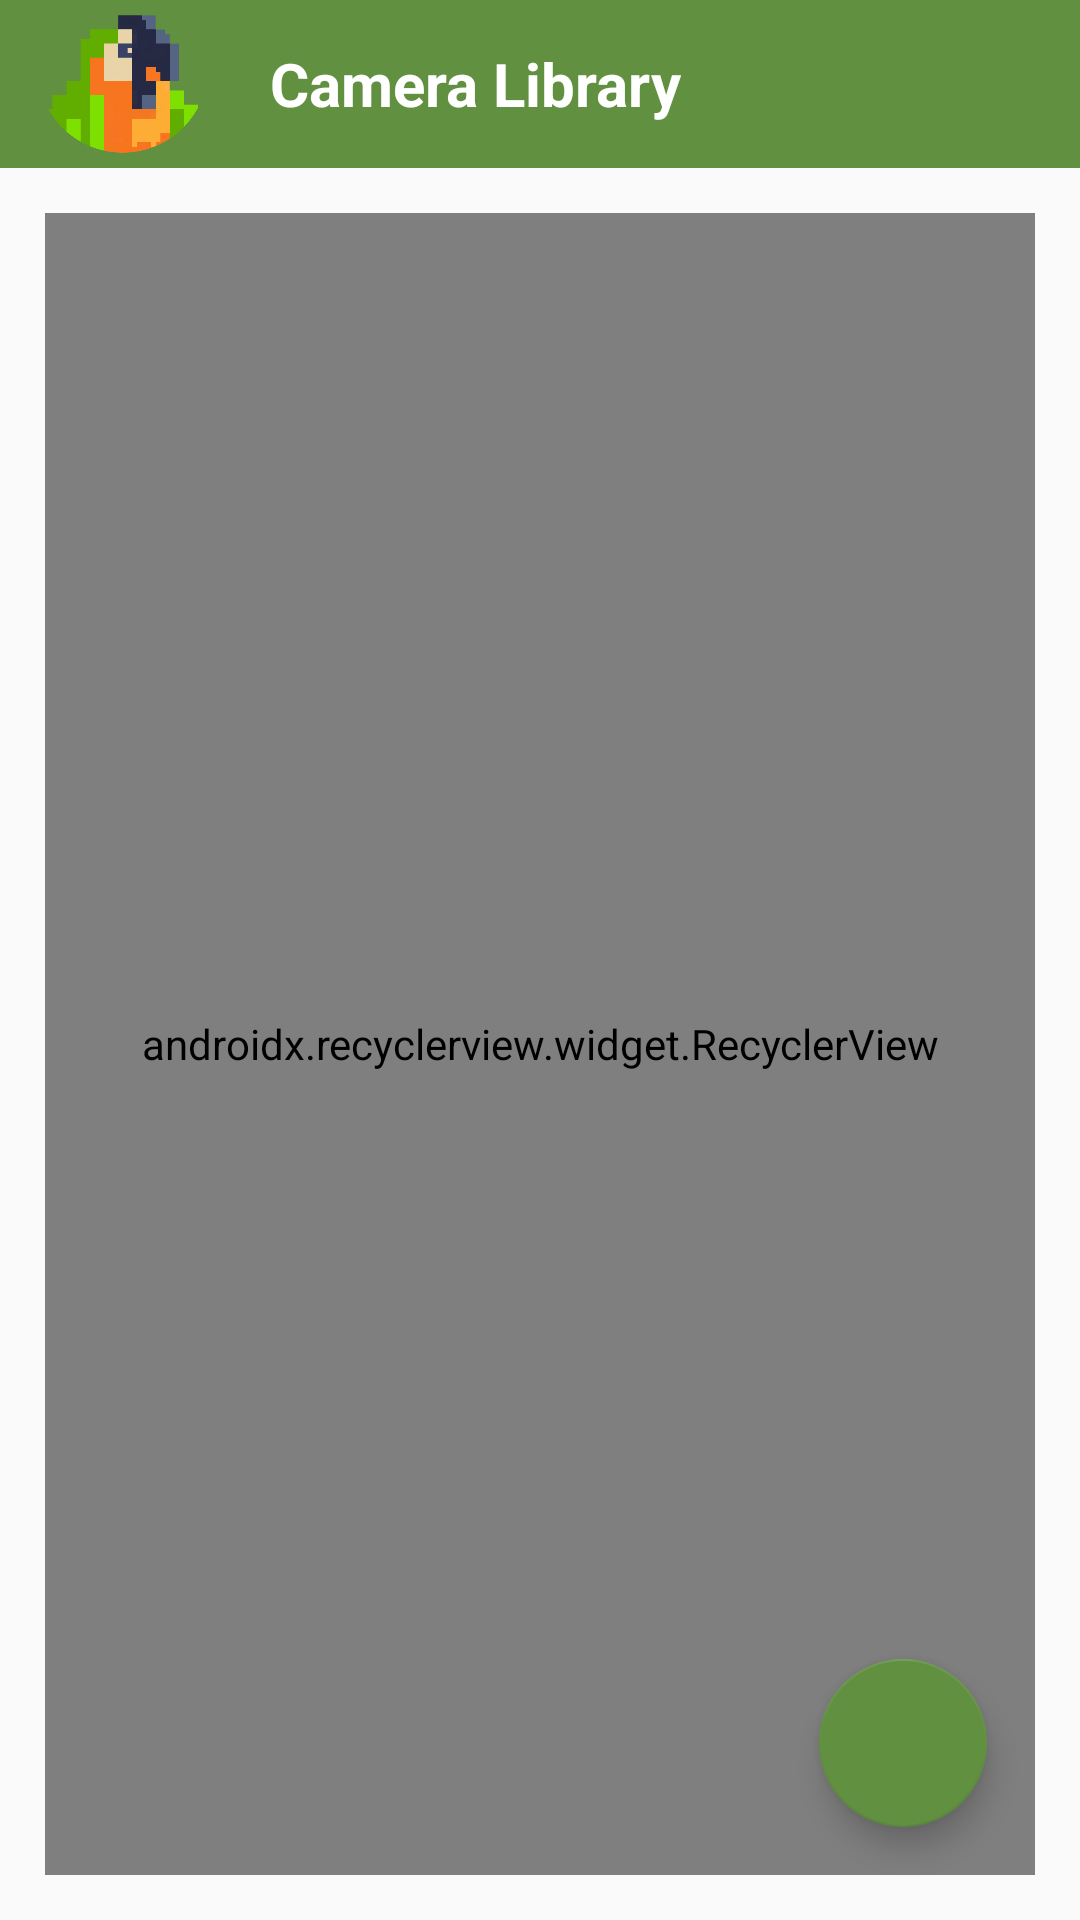

Where to tap for icons on this 1080 × 1920 app screen, as (x=x, y=y):
parrot: (x=123, y=84)
